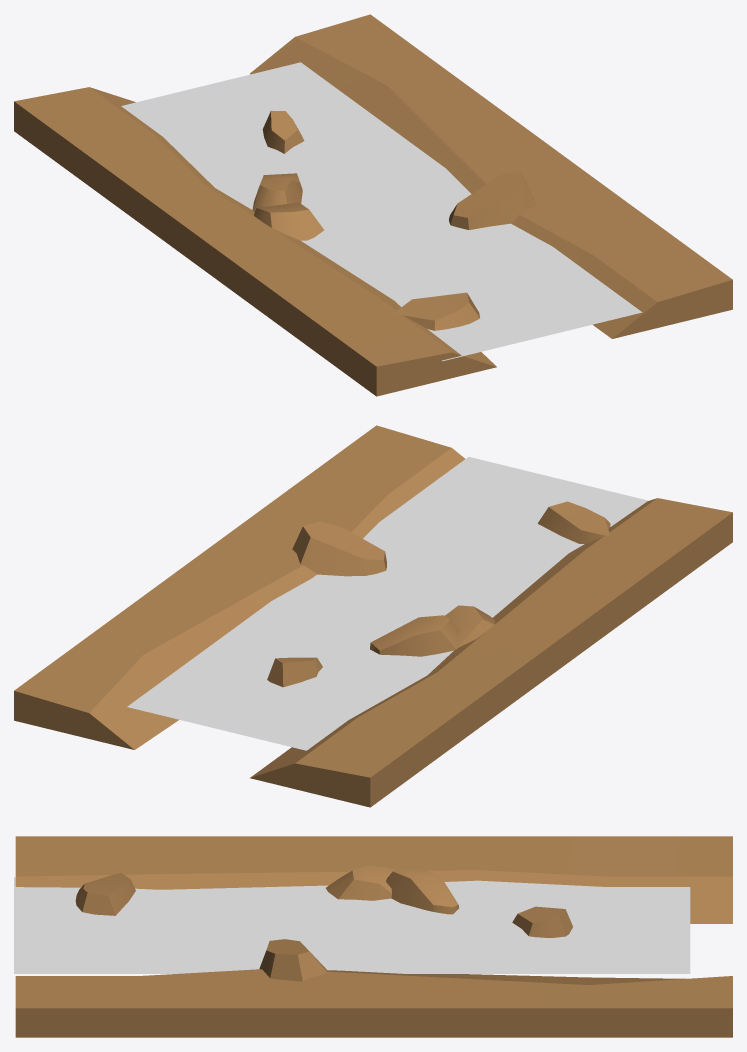
Rendered from river.gltf.
3 renders of one model, top to bottom at view 1: azimuth 30°, elevation 25°; view 2: azimuth 150°, elevation 25°; view 3: azimuth 270°, elevation 25°, orthographic.
Visible parts, largest first — view 1: Box005, Plane, Box007, Box010, Box006, Box009, Box004; view 2: Box005, Plane, Box007, Box009, Box010, Box004, Box006; view 3: Box005, Plane, Box009, Box007, Box010, Box006, Box004.
Part boxes in pixels (x1=…): Box005: x1=14, y1=14, x2=732, y2=396; Plane: x1=121, y1=62, x2=642, y2=361; Box007: x1=449, y1=172, x2=535, y2=229; Box010: x1=394, y1=292, x2=479, y2=330; Box006: x1=254, y1=202, x2=323, y2=240; Box009: x1=252, y1=173, x2=302, y2=211; Box004: x1=262, y1=110, x2=304, y2=153; Box005: x1=14, y1=425, x2=732, y2=807; Plane: x1=127, y1=457, x2=648, y2=750; Box007: x1=292, y1=521, x2=386, y2=576; Box009: x1=370, y1=615, x2=459, y2=656; Box010: x1=537, y1=501, x2=610, y2=543; Box004: x1=267, y1=657, x2=322, y2=687; Box006: x1=445, y1=605, x2=494, y2=647; Box005: x1=15, y1=836, x2=732, y2=1037; Plane: x1=14, y1=877, x2=690, y2=973; Box009: x1=386, y1=866, x2=459, y2=914; Box007: x1=259, y1=939, x2=327, y2=981; Box010: x1=75, y1=873, x2=135, y2=915; Box006: x1=326, y1=865, x2=394, y2=900; Box004: x1=512, y1=906, x2=572, y2=937.
Bounding box in the file's own units: 2.84 × 0.5028 × 5.01.
